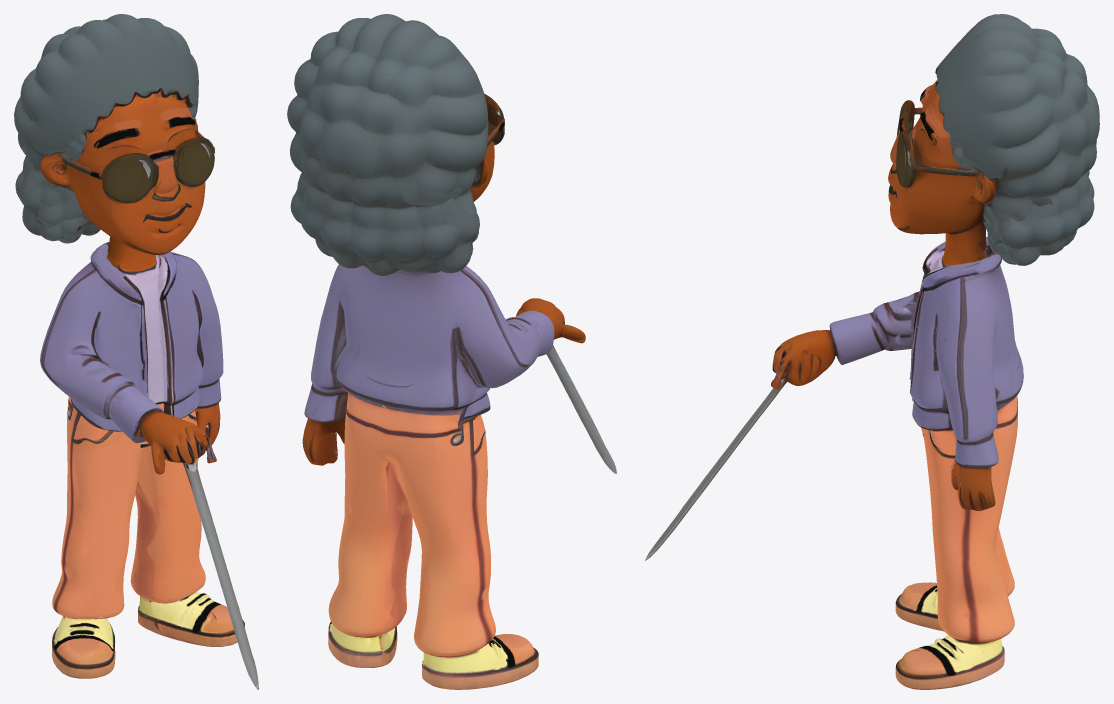
Rendered from SeñoraC2.glb.
The picture shows the model from 3 angles, left to right: view 1: azimuth 30°, elevation 25°; view 2: azimuth 150°, elevation 25°; view 3: azimuth 270°, elevation 25°; orthographic projection. The views are drawn at different scales.
Parts seen in each view (by area): view 1: model; view 2: model; view 3: model.
Part boxes in pixels (x1,y1,x2,y2): model: (14,14,258,689); model: (287,14,616,689); model: (645,14,1099,689).
Size of the model in its own units: 0.606 by 1.9 by 1.25.
Materials: 1 (1 with a texture image).
